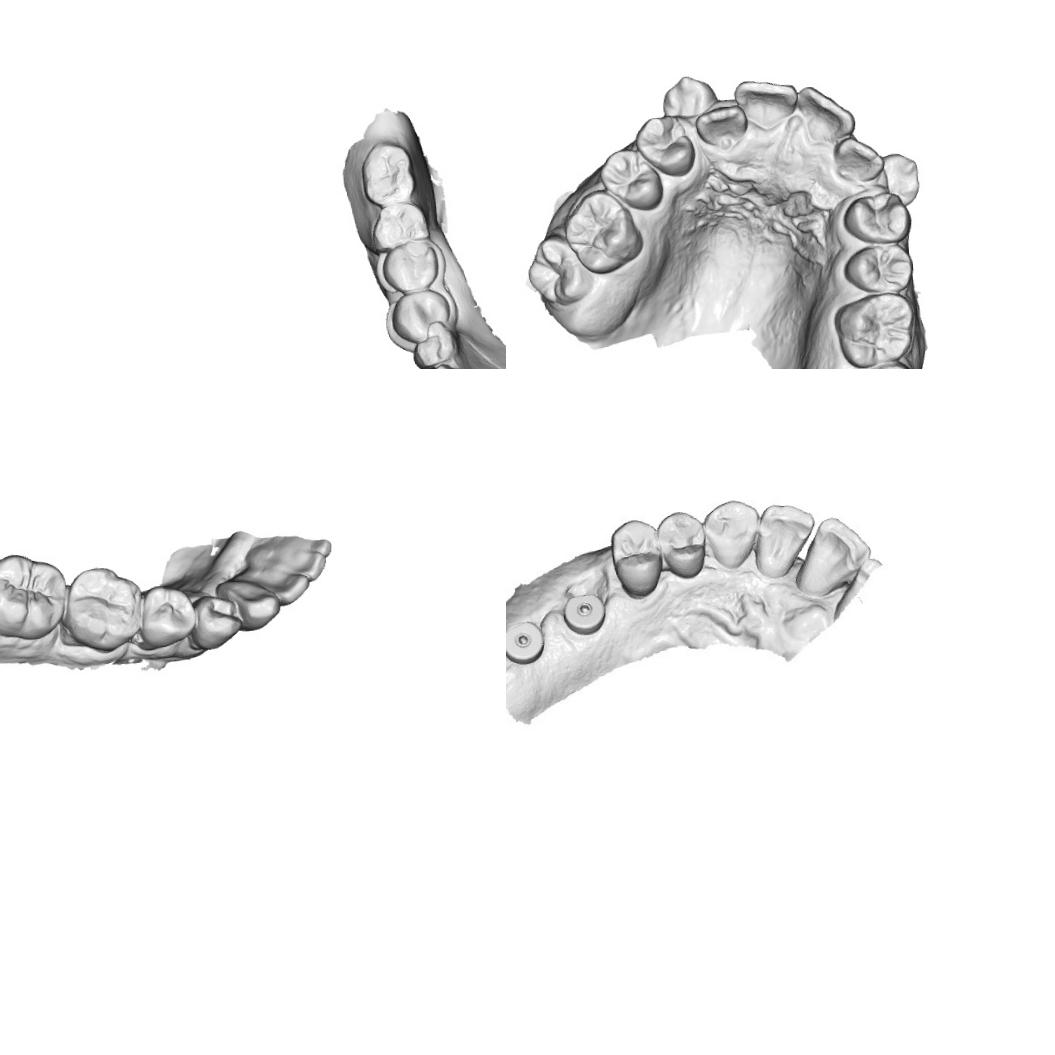canine: (699, 498, 762, 570), (212, 572, 281, 633), (657, 70, 722, 128), (878, 148, 924, 208), (428, 357, 472, 369)
implant: (506, 617, 545, 669), (565, 592, 606, 638)
incisor: (793, 514, 876, 589), (730, 75, 802, 136), (792, 80, 859, 144), (753, 501, 810, 575), (236, 562, 311, 610), (825, 132, 887, 188), (693, 100, 752, 151), (262, 548, 328, 586)
molar: (559, 185, 649, 279), (60, 560, 147, 655), (831, 288, 921, 369), (0, 549, 70, 643), (522, 231, 593, 309), (357, 136, 417, 207), (366, 199, 431, 254)
premolar: (595, 144, 666, 215), (133, 580, 200, 653), (610, 512, 668, 596), (631, 112, 698, 180), (838, 188, 912, 247), (840, 240, 916, 296), (378, 236, 443, 296), (656, 508, 708, 582), (187, 587, 246, 652), (387, 286, 453, 344)
